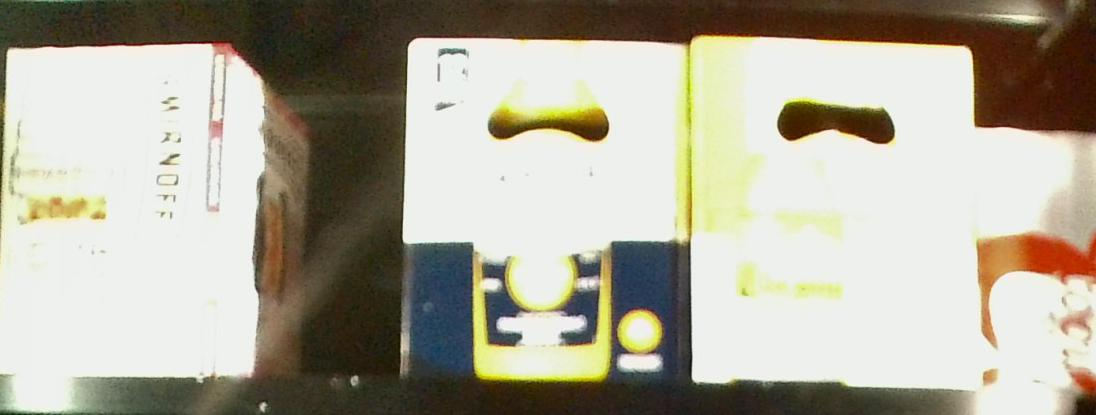bottle: (690, 34, 978, 395), (2, 45, 303, 378), (403, 36, 690, 383), (977, 125, 1096, 398)
